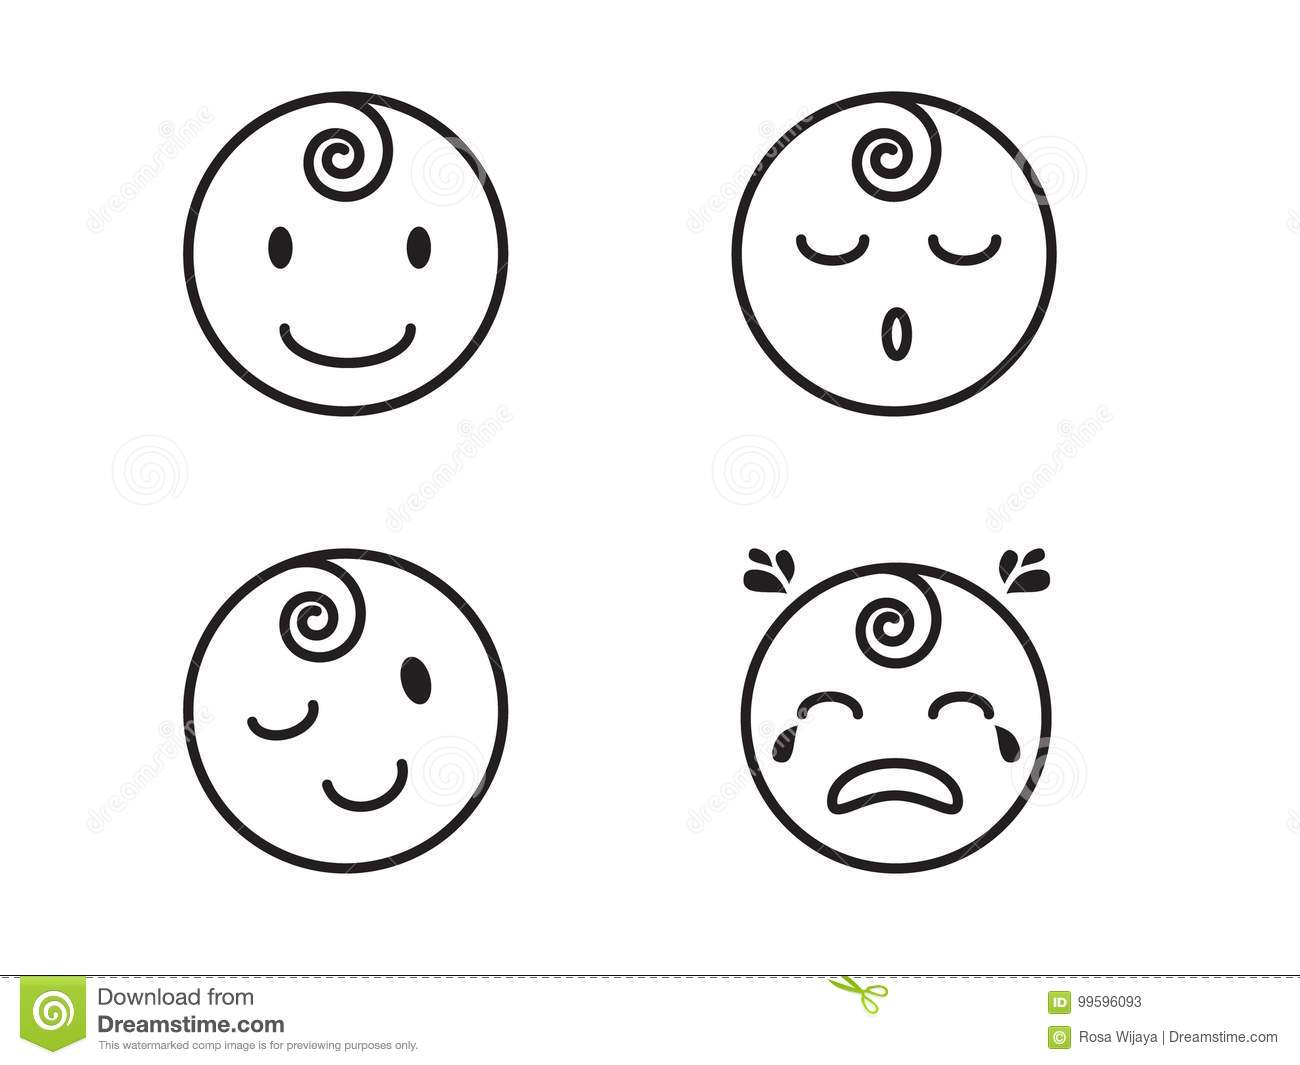triste: (798, 677, 997, 827)
